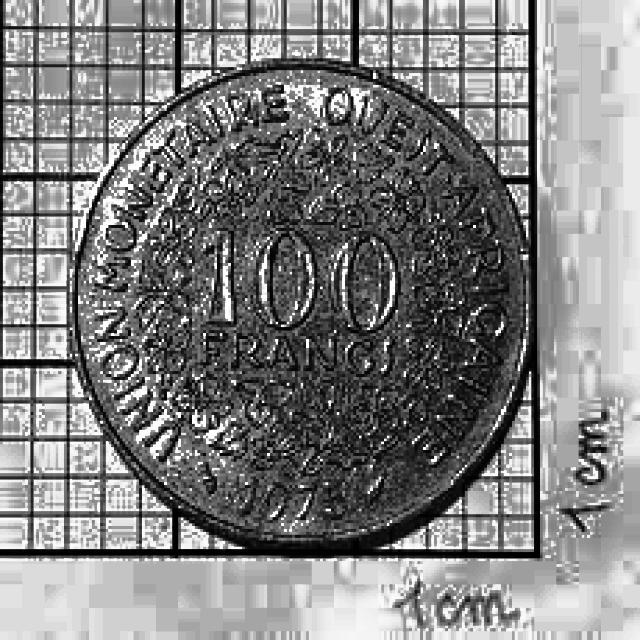niaari fukk: (75, 60, 531, 548)
